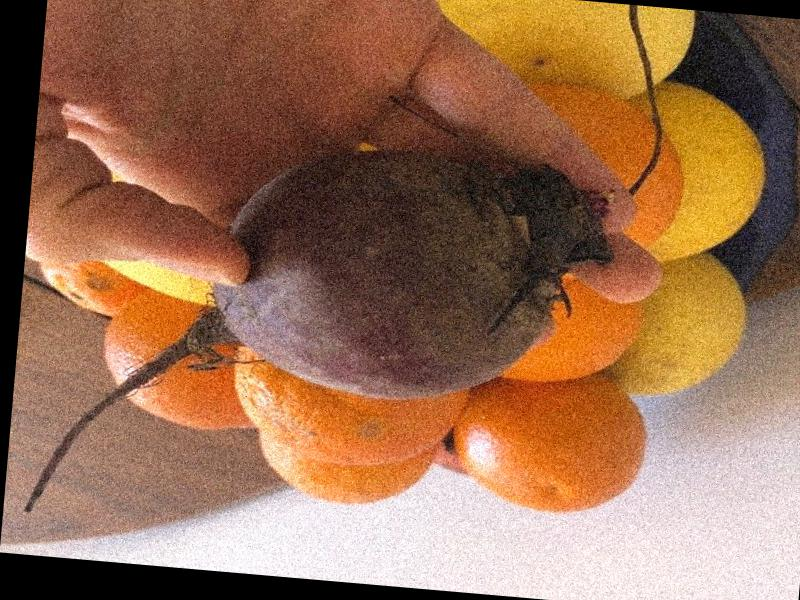Beet: (24, 121, 611, 560)
